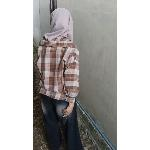Pisau: (60, 110, 72, 128)
